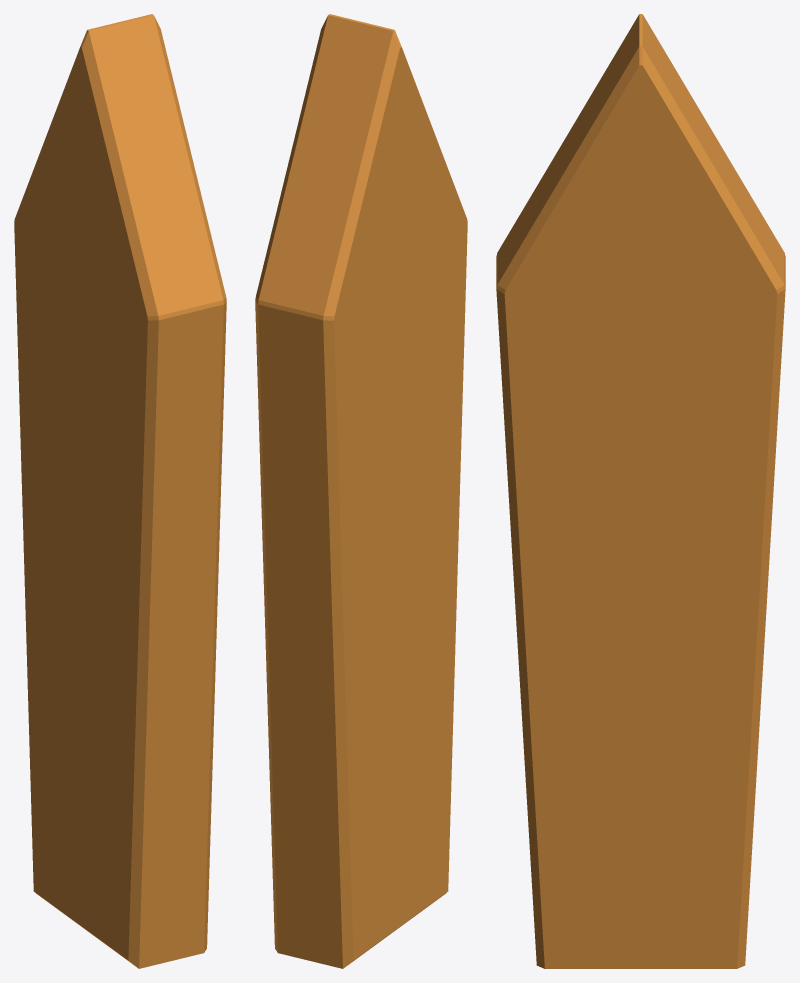
Rendered from env_plank02.fbx.
3 views of the same model, side by side, from view 1: azimuth 30°, elevation 25°; view 2: azimuth 150°, elevation 25°; view 3: azimuth 270°, elevation 25° (orthographic). The views are drawn at different scales.
Visible parts, largest first — view 1: env_plank02; view 2: env_plank02; view 3: env_plank02.
Part boxes in pixels (x1,y1,x2,y2): env_plank02: (14,14,226,968); env_plank02: (255,14,467,968); env_plank02: (496,14,785,968).
Size of the model in its own units: 6.28 by 68.56 by 19.55.
